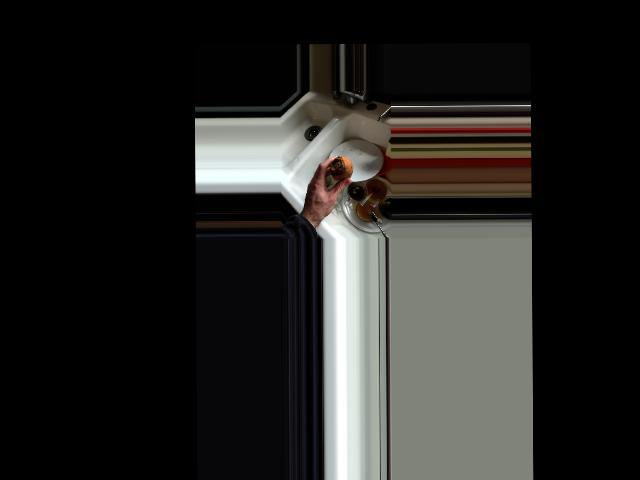sweet_potato: (328, 154, 354, 186)
